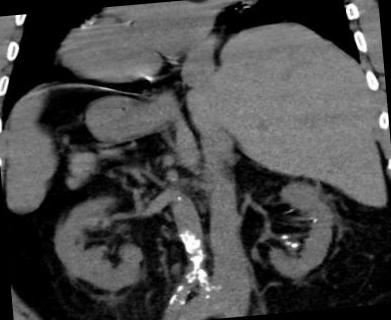Tas_Var: (278, 240, 292, 247), (308, 217, 320, 224), (290, 241, 300, 249), (279, 234, 290, 241)
